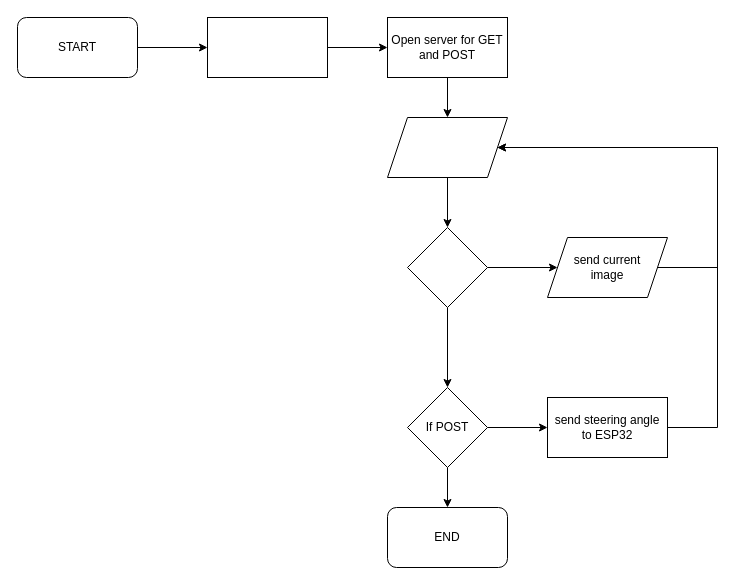
Some shapes in this 743 by 585 pixel diagram are drawn without their labels. Here are the shapes that lost their labels. From the top down, the box of each, then its label:
(206, 16, 328, 78): Connect to WiFi
(386, 116, 508, 178): Getting HTTP request
(406, 226, 488, 308): If GET
